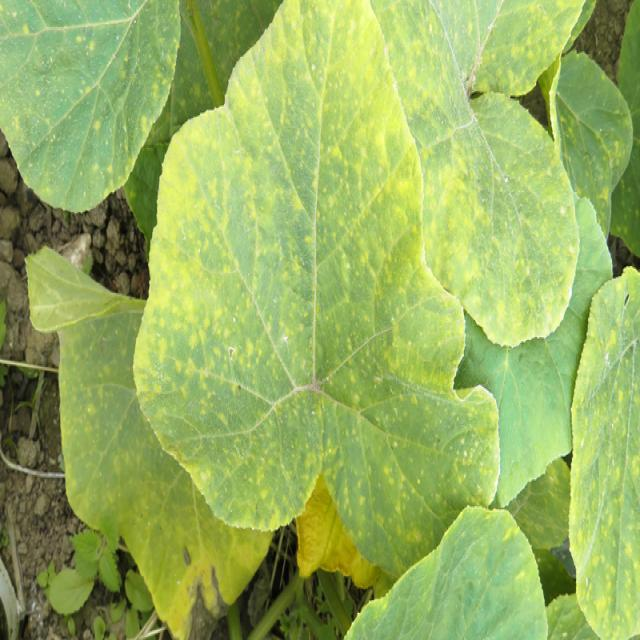Chlorosis: (112, 38, 562, 555)
